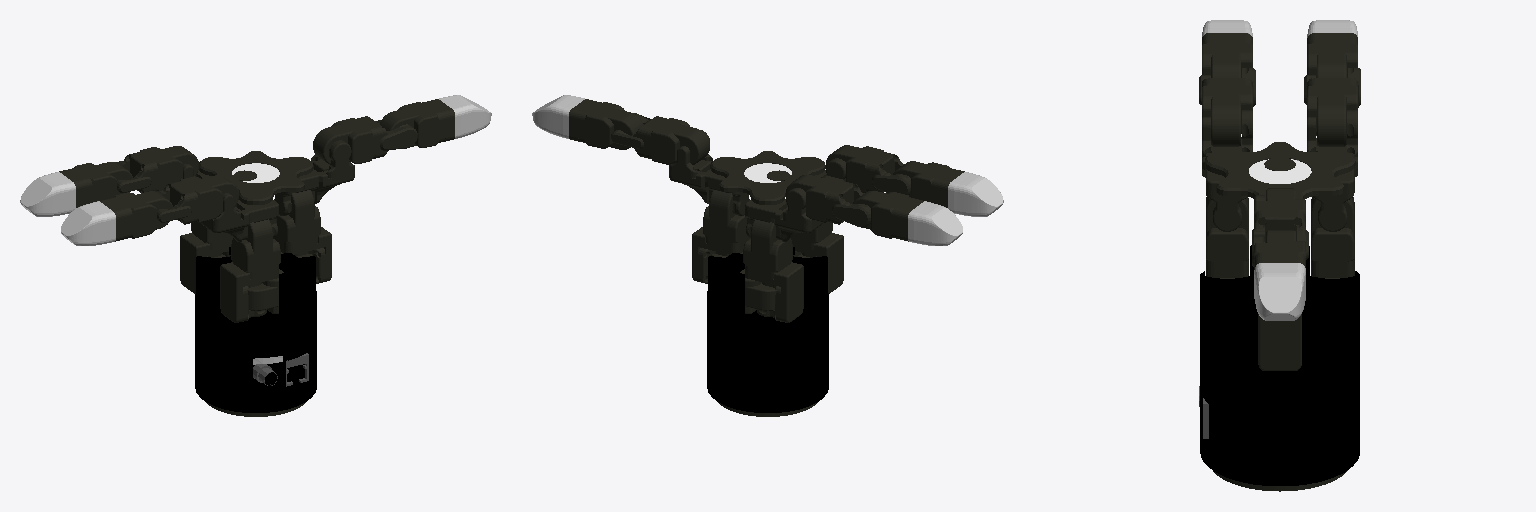
URDF robot description (dg3f_m):
<?xml version="1.0" ?>
<!--
    dg3f_m.urdf
    Licensed under the BSD-3-Clause
    Copyright (c) 2019-2025 Tesollo Inc.
    See LICENSE file for details.

    Reference:
    * https://tesollo.com/dg-3f/
-->

<robot name="dg3f_m">
  <link name="l_dg_mount">
    <inertial>
      <mass value="0.035" />
    </inertial>
    <visual>
      <geometry>
        <mesh filename="package://dg_description/meshes/dg3f_m/visual/l_dg_mount.dae"/>
      </geometry>
    </visual>
    <collision>
      <geometry>
        <mesh filename="package://dg_description/meshes/dg3f_m/collision/l_dg_mount_c.STL"/>
      </geometry>
    </collision>
  </link>
  <link name="l_dg_base">
    <inertial>
      <origin xyz="0.00043337 0.00027389 0.044909" rpy="0 0 0" />
      <mass value="0.451" />
      <inertia ixx="0.00074905" ixy="1.3406E-06" ixz="6.2559E-06" iyy="0.00076541" iyz="3.8906E-06" izz="0.00042544" />
    </inertial>
    <visual>
      <origin xyz="0 0 0" rpy="0 0 0" />
      <geometry>
        <mesh filename="package://dg_description/meshes/dg3f_m/visual/l_dg_base.dae" />
      </geometry>
    </visual>
    <collision>
      <origin xyz="0 0 0" rpy="0 0 0" />
      <geometry>
        <mesh filename="package://dg_description/meshes/dg3f_m/collision/l_dg_base_c.STL" />
      </geometry>
    </collision>
  </link>
  <joint name="j_dg_dg_base" type="fixed">
    <parent link="l_dg_mount"/>
    <child link="l_dg_base"/>
    <origin rpy="0 0 0" xyz="0 0 0.004"/>
  </joint>
<!--finger1-->
<link name="l_dg_1_1">
    <inertial>
      <origin xyz="0.0039774 -8.829E-09 0.020057" rpy="0 0 0" />
      <mass value="0.0493" />
      <inertia ixx="1.3247E-05" ixy="1.7768E-12" ixz="2.91E-06" iyy="1.5031E-05" iyz="-6.8008E-12" izz="4.5216E-06" />
    </inertial>
    <visual>
      <origin xyz="0 0 0" rpy="0 0 0" />
      <geometry>
        <mesh filename="package://dg_description/meshes/dg3f_m/visual/l_1_1.dae" />
      </geometry>
    </visual>
    <collision>
      <origin xyz="0 0 0" rpy="0 0 0" />
      <geometry>
        <mesh filename="package://dg_description/meshes/dg3f_m/collision/l_1_1_c.STL" />
      </geometry>
    </collision>
  </link>
  <joint name="j_dg_1_1" type="revolute">
    <origin xyz="0.026558 0 0.0712" rpy="0 0 0" />
    <parent link="l_dg_base" />
    <child link="l_dg_1_1" />
    <axis xyz="0 0 1" />
    <limit lower="-1.5707963267948966" upper="1.5707963267948966" effort="7.644" velocity="3.141592653589793" />
  </joint>

  <link name="l_dg_1_2">
    <inertial>
      <origin xyz="0.013085 -0.00032847 0.013274" rpy="0 0 0" />
      <mass value="0.0191" />
      <inertia ixx="2.4921E-06" ixy="1.1229E-07" ixz="-1.0064E-06" iyy="6.5468E-06" iyz="1.5916E-07" izz="6.2269E-06" />
    </inertial>
    <visual>
      <origin xyz="0 0 0" rpy="0 0 0" />
      <geometry>
        <mesh filename="package://dg_description/meshes/dg3f_m/visual/l_1_2.dae" />
      </geometry>
    </visual>
    <collision>
      <origin xyz="0 0 0" rpy="0 0 0" />
      <geometry>
        <mesh filename="package://dg_description/meshes/dg3f_m/collision/l_1_2_c.STL" />
      </geometry>
    </collision>
  </link>
  <joint name="j_dg_1_2" type="revolute">
    <origin xyz="0 0 0.0405" rpy="0 0 0" />
    <parent link="l_dg_1_1" />
    <child link="l_dg_1_2" />
    <axis xyz="1 0 0" />
    <limit lower="-1.5707963267948966" upper="1.5707963267948966" effort="7.644" velocity="3.141592653589793" />
  </joint>

  <link name="l_dg_1_3">
    <inertial>
      <origin xyz="0.015926 -0.0001838 -1.5688E-05" rpy="0 0 0" />
      <mass value="0.04535" />
      <inertia ixx="2.7201E-06" ixy="5.68E-07" ixz="1.3288E-08" iyy="7.7224E-06" iyz="-3.8255E-11" izz="8.3935E-06" />
    </inertial>
    <visual>
      <origin xyz="0 0 0" rpy="0 0 0" />
      <geometry>
        <mesh filename="package://dg_description/meshes/dg3f_m/visual/l_1_3.dae" />
      </geometry>
    </visual>
    <collision>
      <origin xyz="0 0 0" rpy="0 0 0" />
      <geometry>
        <mesh filename="package://dg_description/meshes/dg3f_m/collision/l_1_3_c.STL" />
      </geometry>
    </collision>
  </link>
  <joint name="j_dg_1_3" type="revolute">
    <origin xyz="0.0242 0 0.029" rpy="0 0 0" />
    <parent link="l_dg_1_2" />
    <child link="l_dg_1_3" />
    <axis xyz="0 -1 0" />
    <limit lower="-0.0" upper="2.8099800957108707" effort="7.644" velocity="3.141592653589793" />
  </joint>

  <link name="l_dg_1_4">
    <inertial>
      <origin xyz="0.013887 0.00026201 -4.6519E-10" rpy="0 0 0" />
      <mass value="0.0408" />
      <inertia ixx="2.3785E-06" ixy="7.7437E-08" ixz="-4.9155E-14" iyy="3.5656E-06" iyz="1.1628E-12" izz="3.8056E-06" />
    </inertial>
    <visual>
      <origin xyz="0 0 0" rpy="0 0 0" />
      <geometry>
        <mesh filename="package://dg_description/meshes/dg3f_m/visual/l_1_4.dae" />
      </geometry>
    </visual>
    <collision>
      <origin xyz="0 0 0" rpy="0 0 0" />
      <geometry>
        <mesh filename="package://dg_description/meshes/dg3f_m/collision/l_1_4_c.STL" />
      </geometry>
    </collision>
  </link>
  <joint name="j_dg_1_4" type="revolute">
    <origin xyz="0.0434 0 0" rpy="0 0 0" />
    <parent link="l_dg_1_3" />
    <child link="l_dg_1_4" />
    <axis xyz="0 -1 0" />
    <limit lower="-1.5707963267948966" upper="1.8675022996339325" effort="7.644" velocity="3.141592653589793" />
  </joint>

  <link name="l_dg_1_tip">
    <inertial>
      <origin xyz="0.010984 -8.1442E-09 -0.00048894" rpy="0 0 0" />
      <mass value="0.0172" />
      <inertia ixx="1.1855E-06" ixy="5.5892E-12" ixz="9.3654E-08" iyy="1.439E-06" iyz="-1.6025E-11" izz="1.6355E-06" />
    </inertial>
    <visual>
      <origin xyz="0 0 0" rpy="0 0 0" />
      <geometry>
        <mesh filename="package://dg_description/meshes/dg3f_m/visual/l_1_tip.dae" />
      </geometry>
    </visual>
    <collision>
      <origin xyz="0 0 0" rpy="0 0 0" />
      <geometry>
        <mesh filename="package://dg_description/meshes/dg3f_m/collision/l_1_tip_c.STL" />
      </geometry>
    </collision>
  </link>
  <joint name="j_dg_1_tip" type="fixed">
    <origin xyz="0.0313 0 0" rpy="0 0 0" />
    <parent link="l_dg_1_4" />
    <child link="l_dg_1_tip" />
  </joint>
  <!--finger2-->
  <link name="l_dg_2_1">
    <inertial>
      <origin xyz="-0.0039774 8.829E-09 0.020057" rpy="0 0 0" />
      <mass value="0.0493" />
      <inertia ixx="1.3247E-05" ixy="1.7768E-12" ixz="-2.91E-06" iyy="1.5031E-05" iyz="6.8008E-12" izz="4.5216E-06" />
    </inertial>
    <visual>
      <origin xyz="0 0 0" rpy="0 0 0" />
      <geometry>
        <mesh filename="package://dg_description/meshes/dg3f_m/visual/l_23_1.dae" />
      </geometry>
    </visual>
    <collision>
      <origin xyz="0 0 0" rpy="0 0 0" />
      <geometry>
        <mesh filename="package://dg_description/meshes/dg3f_m/collision/l_23_1_c.STL" />
      </geometry>
    </collision>
  </link>
  <joint name="j_dg_2_1" type="revolute">
    <origin xyz="-0.013279 0.023 0.0712" rpy="0 0 0" />
    <parent link="l_dg_base" />
    <child link="l_dg_2_1" />
    <axis xyz="0 0 1" />
    <limit lower="-2.129301687433082" upper="1.5707963267948966" effort="7.644" velocity="3.141592653589793" />
  </joint>

  <link name="l_dg_2_2">
    <inertial>
      <origin xyz="-0.013085 0.00032847 0.013274" rpy="0 0 0" />
      <mass value="0.0191" />
      <inertia ixx="2.4921E-06" ixy="1.1229E-07" ixz="1.0064E-06" iyy="6.5468E-06" iyz="-1.5916E-07" izz="6.2269E-06" />
    </inertial>
    <visual>
      <origin xyz="0 0 0" rpy="0 0 0" />
      <geometry>
        <mesh filename="package://dg_description/meshes/dg3f_m/visual/l_23_2.dae" />
      </geometry>
    </visual>
    <collision>
      <origin xyz="0 0 0" rpy="0 0 0" />
      <geometry>
        <mesh filename="package://dg_description/meshes/dg3f_m/collision/l_23_2_c.STL" />
      </geometry>
    </collision>
  </link>
  <joint name="j_dg_2_2" type="revolute">
    <origin xyz="0 0 0.0405" rpy="0 0 0" />
    <parent link="l_dg_2_1" />
    <child link="l_dg_2_2" />
    <axis xyz="-1 0 0" />
    <limit lower="-1.5707963267948966" upper="1.5707963267948966" effort="7.644" velocity="3.141592653589793" />
  </joint>

  <link name="l_dg_2_3">
    <inertial>
      <origin xyz="-0.0159258962872331 0.000183796044363631 -1.56883420763254E-05" rpy="0 0 0" />
      <mass value="0.04535" />
      <inertia ixx="2.72014634088682E-06" ixy="5.67998480575708E-07" ixz="-1.32884157040829E-08" iyy="7.72244376203872E-06" iyz="3.82553595666275E-11" izz="8.39345564298784E-06" />   
    </inertial>
    <visual>
      <origin xyz="0 0 0" rpy="0 0 0" />
      <geometry>
        <mesh filename="package://dg_description/meshes/dg3f_m/visual/l_23_3.dae" />
      </geometry>
    </visual>
    <collision>
      <origin xyz="0 0 0" rpy="0 0 0" />
      <geometry>
        <mesh filename="package://dg_description/meshes/dg3f_m/collision/l_23_3_c.STL" />
      </geometry>
    </collision>
  </link>
  <joint name="j_dg_2_3" type="revolute">
    <origin xyz="-0.0242 0 0.029" rpy="0 0 0" />
    <parent link="l_dg_2_2" />
    <child link="l_dg_2_3" />
    <axis xyz="0 1 0" />
    <limit lower="-0.0" upper="2.8099800957108707" effort="7.644" velocity="3.141592653589793" />
  </joint>

  <link name="l_dg_2_4">
    <inertial>
      <origin xyz="-0.013887 -0.00026201 -4.6519E-10" rpy="0 0 0" />
      <mass value="0.0408" />
      <inertia ixx="2.3785E-06" ixy="7.7437E-08" ixz="4.9155E-14" iyy="3.5656E-06" iyz="-1.1628E-12" izz="3.8056E-06" />    
    </inertial>
    <visual>
      <origin xyz="0 0 0" rpy="0 0 0" />
      <geometry>
        <mesh filename="package://dg_description/meshes/dg3f_m/visual/l_23_4.dae" />
      </geometry>
    </visual>
    <collision>
      <origin xyz="0 0 0" rpy="0 0 0" />
      <geometry>
        <mesh filename="package://dg_description/meshes/dg3f_m/collision/l_23_4_c.STL" />
      </geometry>
    </collision>
  </link>
  <joint name="j_dg_2_4" type="revolute">
    <origin xyz="-0.0434 0 0" rpy="0 0 0" />
    <parent link="l_dg_2_3" />
    <child link="l_dg_2_4" />
    <axis xyz="0 1 0" />
    <limit lower="-1.5707963267948966" upper="1.8675022996339325" effort="7.644" velocity="3.141592653589793" />
  </joint>

  <link name="l_dg_2_tip">
    <inertial>
      <origin xyz="-0.010984 -1.7412E-08 -0.00048893" rpy="0 0 0" />
      <mass value="0.0172" />
      <inertia ixx="1.1855E-06" ixy="-2.6029E-12" ixz="-9.3657E-08" iyy="1.439E-06" iyz="1.8278E-11" izz="1.6355E-06" />    
    </inertial>
    <visual>
      <origin xyz="0 0 0" rpy="0 0 0" />
      <geometry>
        <mesh filename="package://dg_description/meshes/dg3f_m/visual/l_23_tip.dae" />
      </geometry>
    </visual>
    <collision>
      <origin xyz="0 0 0" rpy="0 0 0" />
      <geometry>
        <mesh filename="package://dg_description/meshes/dg3f_m/collision/l_23_tip_c.STL" />
      </geometry>
    </collision>
  </link>
  <joint name="j_dg_2_tip" type="fixed">
    <origin xyz="-0.0313 0 0" rpy="0 0 0" />
    <parent link="l_dg_2_4" />
    <child link="l_dg_2_tip" />
  </joint>
  <!--finger3-->
  <link name="l_dg_3_1">
    <inertial>
      <origin xyz="-0.0039774 8.829E-09 0.020057" rpy="0 0 0" />
      <mass value="0.0493" />
      <inertia ixx="1.3247E-05" ixy="1.7768E-12" ixz="-2.91E-06" iyy="1.5031E-05" iyz="6.8008E-12" izz="4.5216E-06" />
    </inertial>
    <visual>
      <origin xyz="0 0 0" rpy="0 0 0" />
      <geometry>
        <mesh filename="package://dg_description/meshes/dg3f_m/visual/l_23_1.dae" />
      </geometry>
    </visual>
    <collision>
      <origin xyz="0 0 0" rpy="0 0 0" />
      <geometry>
        <mesh filename="package://dg_description/meshes/dg3f_m/collision/l_23_1_c.STL" />
      </geometry>
    </collision>
  </link>
  <joint name="j_dg_3_1" type="revolute">
    <origin xyz="-0.013279 -0.023 0.0712" rpy="0 0 0" />
    <parent link="l_dg_base" />
    <child link="l_dg_3_1" />
    <axis xyz="0 0 1" />
    <limit lower="-1.5707963267948966" upper="2.129301687433082" effort="7.644" velocity="3.141592653589793" />
  </joint>

  <link name="l_dg_3_2">
    <inertial>
      <origin xyz="-0.013085 0.00032847 0.013274" rpy="0 0 0" />
      <mass value="0.0191" />
      <inertia ixx="2.4921E-06" ixy="1.1229E-07" ixz="1.0064E-06" iyy="6.5468E-06" iyz="-1.5916E-07" izz="6.2269E-06" />
    </inertial>
    <visual>
      <origin xyz="0 0 0" rpy="0 0 0" />
      <geometry>
        <mesh filename="package://dg_description/meshes/dg3f_m/visual/l_23_2.dae" />
      </geometry>
    </visual>
    <collision>
      <origin xyz="0 0 0" rpy="0 0 0" />
      <geometry>
        <mesh filename="package://dg_description/meshes/dg3f_m/collision/l_23_2_c.STL" />
      </geometry>
    </collision>
  </link>
  <joint name="j_dg_3_2" type="revolute">
    <origin xyz="0 0 0.0405" rpy="0 0 0" />
    <parent link="l_dg_3_1" />
    <child link="l_dg_3_2" />
    <axis xyz="-1 0 0" />
    <limit lower="-1.5707963267948966" upper="1.5707963267948966" effort="7.644" velocity="3.141592653589793" />
  </joint>

  <link name="l_dg_3_3">
    <inertial>
      <origin xyz="-0.0159258962872331 0.000183796044363631 -1.56883420763254E-05" rpy="0 0 0" />
      <mass value="0.04535" />
      <inertia ixx="2.72014634088682E-06" ixy="5.67998480575708E-07" ixz="-1.32884157040829E-08" iyy="7.72244376203872E-06" iyz="3.82553595666275E-11" izz="8.39345564298784E-06" />   
    </inertial>
    <visual>
      <origin xyz="0 0 0" rpy="0 0 0" />
      <geometry>
        <mesh filename="package://dg_description/meshes/dg3f_m/visual/l_23_3.dae" />
      </geometry>
    </visual>
    <collision>
      <origin xyz="0 0 0" rpy="0 0 0" />
      <geometry>
        <mesh filename="package://dg_description/meshes/dg3f_m/collision/l_23_3_c.STL" />
      </geometry>
    </collision>
  </link>
  <joint name="j_dg_3_3" type="revolute">
    <origin xyz="-0.0242 0 0.029" rpy="0 0 0" />
    <parent link="l_dg_3_2" />
    <child link="l_dg_3_3" />
    <axis xyz="0 1 0" />
    <limit lower="-0.0" upper="2.8099800957108707" effort="7.644" velocity="3.141592653589793" />
  </joint>

  <link name="l_dg_3_4">
    <inertial>
      <origin xyz="-0.013887 -0.00026201 -4.6519E-10" rpy="0 0 0" />
      <mass value="0.0408" />
      <inertia ixx="2.3785E-06" ixy="7.7437E-08" ixz="4.9155E-14" iyy="3.5656E-06" iyz="-1.1628E-12" izz="3.8056E-06" />    
    </inertial>
    <visual>
      <origin xyz="0 0 0" rpy="0 0 0" />
      <geometry>
        <mesh filename="package://dg_description/meshes/dg3f_m/visual/l_23_4.dae" />
      </geometry>
    </visual>
    <collision>
      <origin xyz="0 0 0" rpy="0 0 0" />
      <geometry>
        <mesh filename="package://dg_description/meshes/dg3f_m/collision/l_23_4_c.STL" />
      </geometry>
    </collision>
  </link>
  <joint name="j_dg_3_4" type="revolute">
    <origin xyz="-0.0434 0 0" rpy="0 0 0" />
    <parent link="l_dg_3_3" />
    <child link="l_dg_3_4" />
    <axis xyz="0 1 0" />
    <limit lower="-1.5707963267948966" upper="1.8675022996339325" effort="7.644" velocity="3.141592653589793" />
  </joint>

  <link name="l_dg_3_tip">
    <inertial>
      <origin xyz="-0.010984 -1.7412E-08 -0.00048893" rpy="0 0 0" />
      <mass value="0.0172" />
      <inertia ixx="1.1855E-06" ixy="-2.6029E-12" ixz="-9.3657E-08" iyy="1.439E-06" iyz="1.8278E-11" izz="1.6355E-06" />    
    </inertial>
    <visual>
      <origin xyz="0 0 0" rpy="0 0 0" />
      <geometry>
        <mesh filename="package://dg_description/meshes/dg3f_m/visual/l_23_tip.dae" />
      </geometry>
    </visual>
    <collision>
      <origin xyz="0 0 0" rpy="0 0 0" />
      <geometry>
        <mesh filename="package://dg_description/meshes/dg3f_m/collision/l_23_tip_c.STL" />
      </geometry>
    </collision>
  </link>
  <joint name="j_dg_3_tip" type="fixed">
    <origin xyz="-0.0313 0 0" rpy="0 0 0" />
    <parent link="l_dg_3_4" />
    <child link="l_dg_3_tip" />
  </joint>
</robot>

--- Facts derived from the render (not from the file) ---
The picture shows the robot from 3 angles, left to right: view 1: azimuth 30°, elevation 25°; view 2: azimuth 150°, elevation 25°; view 3: azimuth 270°, elevation 25°; orthographic projection.
Robot: dg3f_m — 17 links, 16 joints (12 revolute, 4 fixed); root link l_dg_mount; default pose: all joints at 0.
Visible links, largest first — view 1: l_dg_base, l_dg_3_1, l_dg_1_3, l_dg_1_1, l_dg_3_3, l_dg_2_3, l_dg_1_4, l_dg_3_4, l_dg_1_2, l_dg_2_tip, l_dg_3_tip, l_dg_2_4 (+3 smaller); view 2: l_dg_base, l_dg_2_1, l_dg_1_1, l_dg_1_3, l_dg_2_3, l_dg_3_3, l_dg_1_4, l_dg_2_2, l_dg_2_4, l_dg_3_tip, l_dg_2_tip, l_dg_1_2 (+3 smaller); view 3: l_dg_base, l_dg_3_3, l_dg_2_3, l_dg_1_tip, l_dg_2_1, l_dg_3_1, l_dg_1_3, l_dg_2_2, l_dg_3_2, l_dg_1_1, l_dg_2_4, l_dg_3_4 (+4 smaller).
Boxes of the visible links, bbox=[...] form: l_dg_base: bbox=[195, 151, 316, 412]; l_dg_3_1: bbox=[220, 219, 280, 322]; l_dg_1_3: bbox=[313, 116, 417, 164]; l_dg_1_1: bbox=[273, 190, 331, 283]; l_dg_3_3: bbox=[144, 175, 238, 224]; l_dg_2_3: bbox=[102, 146, 198, 192]; l_dg_1_4: bbox=[380, 99, 454, 147]; l_dg_3_4: bbox=[100, 191, 172, 241]; l_dg_1_2: bbox=[274, 140, 354, 215]; l_dg_2_tip: bbox=[20, 172, 75, 216]; l_dg_3_tip: bbox=[61, 201, 115, 245]; l_dg_2_4: bbox=[59, 162, 132, 207]; l_dg_base: bbox=[707, 151, 828, 412]; l_dg_2_1: bbox=[743, 219, 803, 322]; l_dg_1_1: bbox=[692, 190, 750, 283]; l_dg_1_3: bbox=[611, 113, 709, 164]; l_dg_2_3: bbox=[786, 175, 870, 227]; l_dg_3_3: bbox=[826, 145, 910, 194]; l_dg_1_4: bbox=[569, 99, 643, 149]; l_dg_2_2: bbox=[745, 188, 823, 241]; l_dg_2_4: bbox=[853, 191, 923, 241]; l_dg_3_tip: bbox=[948, 172, 1003, 216]; l_dg_2_tip: bbox=[908, 201, 962, 245]; l_dg_1_2: bbox=[669, 130, 749, 215]; l_dg_base: bbox=[1199, 142, 1359, 485]; l_dg_3_3: bbox=[1199, 68, 1255, 146]; l_dg_2_3: bbox=[1304, 68, 1360, 146]; l_dg_1_tip: bbox=[1254, 263, 1305, 320]; l_dg_2_1: bbox=[1311, 197, 1354, 277]; l_dg_3_1: bbox=[1206, 197, 1248, 277]; l_dg_1_3: bbox=[1252, 188, 1308, 266]; l_dg_2_2: bbox=[1307, 110, 1357, 231]; l_dg_3_2: bbox=[1202, 110, 1252, 231]; l_dg_1_1: bbox=[1258, 314, 1301, 370]; l_dg_2_4: bbox=[1307, 33, 1357, 77]; l_dg_3_4: bbox=[1202, 33, 1252, 77].
Bounding box of the posed robot: 0.2945 × 0.0709 × 0.1542 m (x, y, z).
Meshes: 12 distinct files referenced, 17 mesh visuals loaded (12 Collada DAE).
